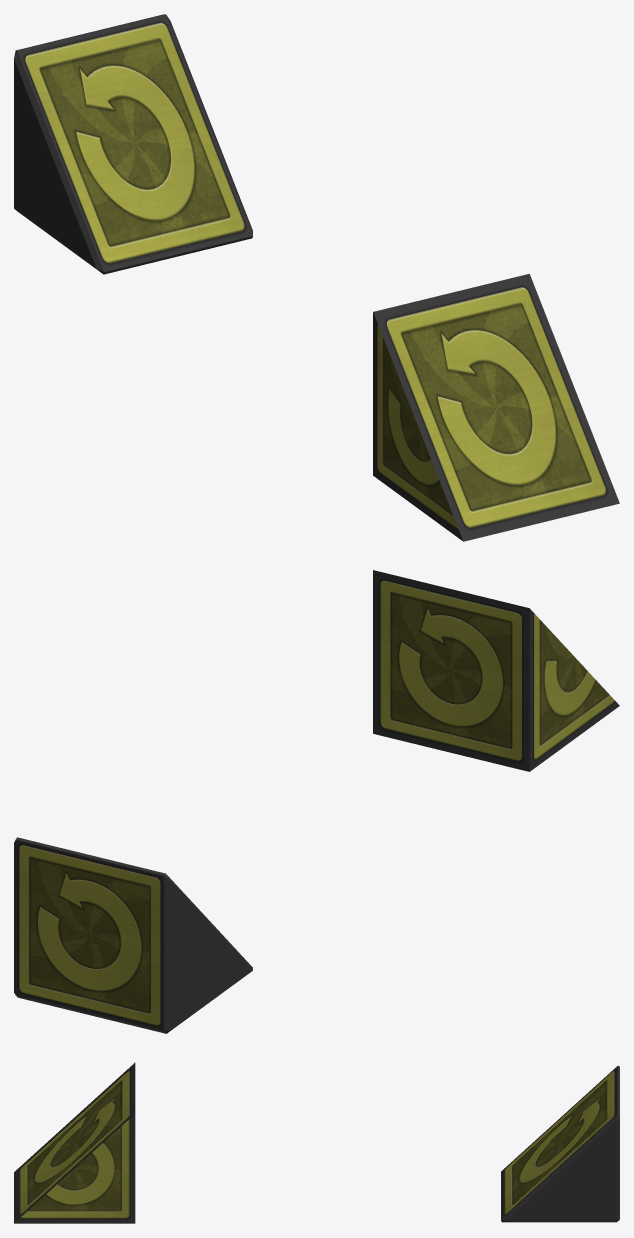
File: slope.1x1.fbx
3 views of the same model, one above another, from view 1: azimuth 30°, elevation 25°; view 2: azimuth 150°, elevation 25°; view 3: azimuth 270°, elevation 25° (orthographic). The views are drawn at different scales.
Visible parts, largest first — view 1: MESH slope.1x1, MESH slope.1x1.c; view 2: MESH slope.1x1, MESH slope.1x1.c; view 3: MESH slope.1x1, MESH slope.1x1.c.
Part boxes in pixels (x1,y1,x2,y2): MESH slope.1x1: (373,274,619,541); MESH slope.1x1.c: (14,14,252,274); MESH slope.1x1: (373,570,619,771); MESH slope.1x1.c: (14,837,252,1033); MESH slope.1x1: (14,1062,135,1223); MESH slope.1x1.c: (501,1066,619,1222).
Size of what is drawn, in the model's own units: 100 by 100 by 500.
